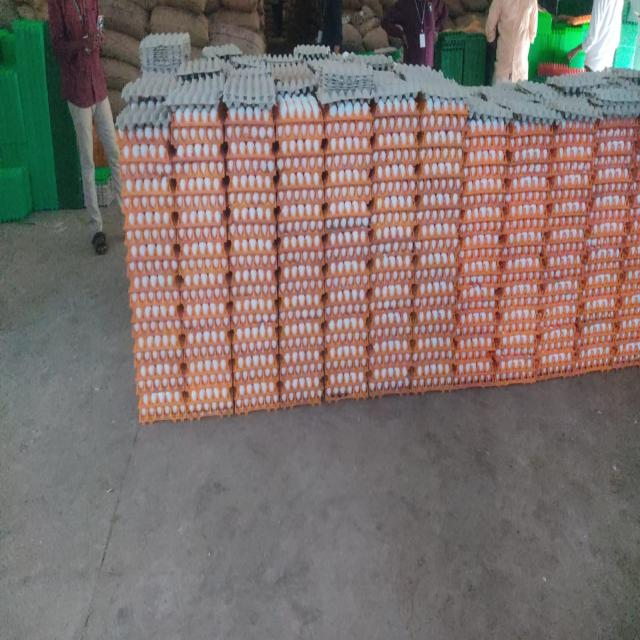egg_tray: (126, 211, 230, 420), (505, 127, 590, 377), (118, 126, 185, 421), (172, 107, 233, 417), (225, 107, 279, 412), (412, 98, 467, 392), (495, 120, 554, 382), (275, 96, 324, 406), (576, 121, 636, 369), (369, 98, 419, 395), (538, 120, 595, 378), (454, 119, 507, 385), (125, 211, 186, 421), (177, 209, 233, 416), (172, 108, 228, 277), (496, 201, 546, 381), (172, 111, 227, 274), (226, 107, 277, 282), (229, 237, 279, 412), (460, 205, 544, 309), (412, 208, 459, 392), (227, 151, 277, 323), (279, 219, 324, 405), (229, 236, 277, 410), (502, 122, 553, 285), (538, 204, 585, 378), (369, 209, 413, 394), (455, 208, 501, 383), (276, 96, 324, 263), (278, 233, 324, 406), (324, 229, 370, 400), (130, 271, 183, 419), (130, 274, 183, 421), (459, 120, 508, 276), (370, 98, 419, 252), (226, 109, 276, 252), (503, 121, 554, 260), (368, 241, 413, 396), (275, 96, 324, 238), (278, 202, 324, 353), (279, 264, 323, 405), (324, 101, 372, 229), (589, 120, 638, 243), (372, 99, 419, 227), (171, 107, 226, 216), (581, 196, 628, 320), (417, 98, 467, 214), (614, 143, 640, 365), (496, 256, 541, 380), (576, 246, 621, 369), (369, 196, 415, 316), (418, 98, 467, 206), (417, 98, 466, 206), (576, 249, 620, 369), (184, 310, 233, 417), (457, 198, 504, 308), (225, 106, 275, 208), (549, 120, 595, 229), (117, 125, 174, 212), (227, 154, 277, 252), (495, 271, 539, 382), (278, 217, 324, 323), (134, 331, 187, 422), (453, 276, 497, 385), (614, 182, 640, 366), (229, 223, 277, 322), (454, 276, 497, 385), (276, 141, 324, 238), (495, 277, 539, 382), (371, 115, 419, 209), (417, 129, 464, 224), (124, 209, 179, 288), (543, 192, 590, 282), (230, 238, 277, 327), (233, 322, 279, 412), (325, 229, 370, 318), (506, 120, 554, 203), (173, 206, 229, 276), (543, 199, 590, 282), (227, 174, 277, 252), (413, 204, 461, 285), (368, 309, 412, 397), (171, 107, 224, 178), (173, 154, 226, 224), (369, 164, 417, 241), (117, 125, 172, 192), (462, 118, 509, 196), (369, 229, 413, 312), (551, 120, 596, 201), (370, 164, 417, 241), (280, 327, 324, 406), (593, 120, 638, 194), (136, 357, 187, 421), (371, 99, 421, 164), (227, 142, 276, 208), (324, 102, 373, 168), (118, 72, 180, 124), (371, 180, 416, 251), (372, 98, 420, 164), (276, 141, 324, 206), (275, 95, 324, 158), (185, 355, 233, 418), (593, 125, 635, 197), (222, 56, 276, 110), (411, 327, 455, 392), (325, 166, 371, 228), (168, 58, 227, 104), (324, 340, 368, 401), (277, 150, 324, 207), (508, 119, 555, 175), (323, 100, 373, 152), (225, 105, 275, 156), (175, 159, 225, 209), (173, 176, 226, 223), (372, 97, 421, 147), (419, 96, 467, 147), (576, 311, 617, 369), (552, 120, 596, 174), (452, 332, 495, 387), (417, 174, 462, 224), (538, 322, 576, 379), (278, 218, 323, 266), (595, 119, 638, 169), (614, 283, 640, 365), (420, 131, 463, 179), (576, 320, 616, 371), (324, 356, 368, 401), (140, 33, 190, 72), (122, 176, 175, 211), (277, 199, 324, 238), (324, 199, 370, 231), (625, 182, 640, 266), (629, 129, 640, 219), (326, 340, 367, 362), (629, 152, 640, 221), (293, 45, 332, 61), (631, 120, 640, 182), (201, 332, 230, 351), (465, 310, 495, 325), (143, 345, 178, 356), (231, 284, 253, 298), (228, 159, 260, 167), (530, 261, 540, 280), (398, 154, 416, 164), (419, 147, 437, 157), (396, 224, 413, 234), (520, 332, 532, 346), (514, 261, 529, 272), (280, 270, 295, 280), (257, 207, 273, 216), (416, 288, 432, 296), (399, 319, 410, 330), (423, 132, 431, 145), (604, 141, 616, 149), (281, 141, 293, 149), (522, 296, 532, 305), (550, 237, 563, 243), (502, 283, 508, 296), (128, 260, 140, 266), (370, 333, 381, 339), (378, 387, 391, 392), (430, 312, 440, 318), (405, 347, 410, 357), (191, 110, 198, 117), (374, 118, 380, 126), (266, 160, 274, 166), (474, 223, 482, 229), (562, 246, 571, 251), (194, 333, 199, 342), (181, 115, 186, 123), (360, 185, 370, 189), (512, 152, 516, 162), (537, 132, 542, 140), (279, 167, 298, 169), (624, 212, 628, 221), (596, 172, 603, 177), (474, 223, 479, 229), (398, 216, 402, 223), (279, 223, 287, 226), (530, 261, 534, 267), (636, 164, 640, 170), (540, 152, 543, 159), (269, 292, 276, 295), (519, 261, 523, 266), (624, 142, 628, 147), (301, 206, 305, 211), (461, 295, 465, 300), (236, 224, 241, 228), (402, 372, 405, 378), (502, 292, 505, 298), (607, 241, 615, 243), (203, 303, 207, 307), (441, 320, 446, 323), (320, 273, 323, 278), (467, 287, 470, 292), (215, 221, 222, 223), (638, 141, 640, 147), (514, 258, 518, 261), (210, 304, 213, 308), (311, 210, 313, 215), (247, 168, 252, 170), (557, 291, 567, 292), (156, 250, 159, 253), (528, 351, 531, 354), (172, 399, 175, 402), (229, 223, 232, 226), (634, 189, 637, 192), (230, 110, 233, 113), (514, 265, 517, 268), (580, 236, 582, 240), (174, 114, 176, 118), (416, 236, 420, 238), (229, 227, 231, 231), (391, 223, 395, 225), (583, 301, 584, 308), (473, 209, 475, 212), (442, 312, 445, 314), (300, 224, 303, 226), (392, 385, 394, 388), (232, 264, 233, 270), (300, 142, 302, 145), (189, 223, 192, 225), (519, 278, 522, 280), (526, 261, 529, 263), (181, 217, 182, 221), (533, 350, 535, 352), (518, 290, 519, 294), (510, 172, 512, 174), (617, 142, 619, 144), (433, 133, 435, 135), (281, 337, 282, 341), (598, 242, 600, 244), (385, 227, 389, 228), (258, 293, 262, 294), (130, 248, 131, 251), (488, 153, 491, 154), (510, 337, 511, 340), (232, 265, 233, 268), (507, 195, 508, 198), (190, 224, 192, 225), (587, 130, 588, 132), (485, 199, 486, 201), (607, 286, 608, 288), (378, 362, 380, 363), (185, 348, 186, 350), (536, 158, 537, 159), (142, 287, 143, 288), (534, 146, 534, 148), (603, 141, 603, 142), (236, 176, 237, 176), (470, 281, 470, 281), (467, 276, 473, 276), (592, 301, 592, 302), (389, 374, 390, 374), (250, 247, 250, 248), (200, 394, 202, 394), (285, 330, 288, 330), (116, 119, 118, 119), (225, 221, 225, 223), (248, 283, 248, 283)
